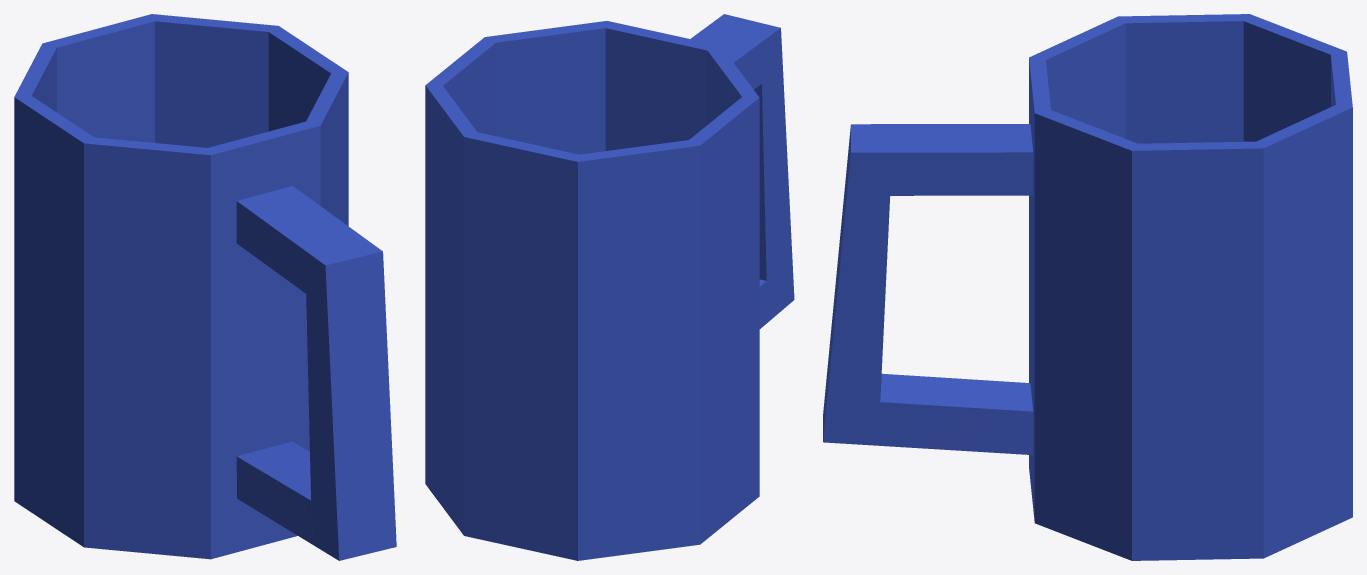
The model's file is Cup_3.fbx.
3 renders of one model, left to right at view 1: azimuth 30°, elevation 25°; view 2: azimuth 150°, elevation 25°; view 3: azimuth 270°, elevation 25°, orthographic. The views are drawn at different scales.
Visible parts, largest first — view 1: Cup_3; view 2: Cup_3; view 3: Cup_3.
Part boxes in pixels (box(x1,y1,x2,y2)): Cup_3: box(14, 14, 396, 560); Cup_3: box(425, 14, 794, 560); Cup_3: box(823, 14, 1352, 560).
Size of the model in its own units: 4.15 by 5.79 by 6.78.
